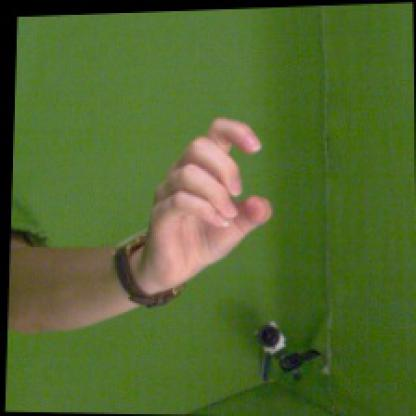Hand: (142, 116, 275, 296)
